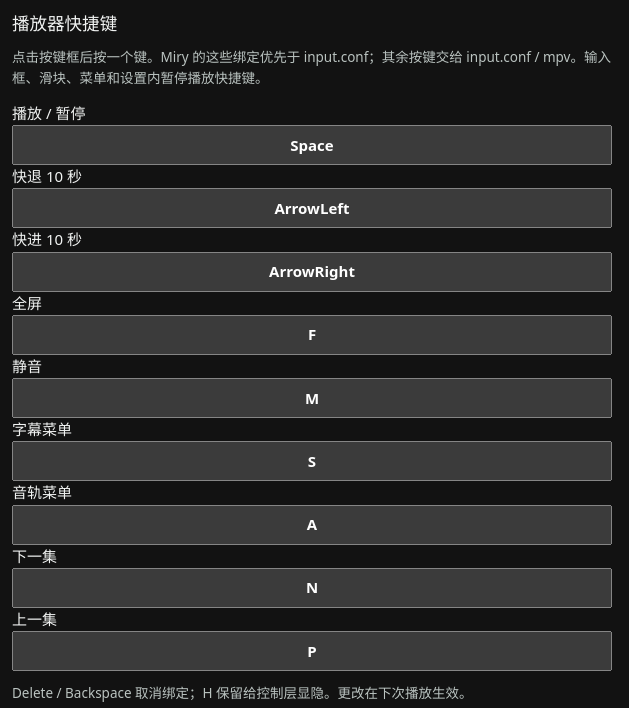
Scenario: waits for the primary key, captures canonical chords and refuses conflicts and reserved keys
Focus the field named "播放 / 暂停快捷键" at (312, 145), box [12,125,612,165]
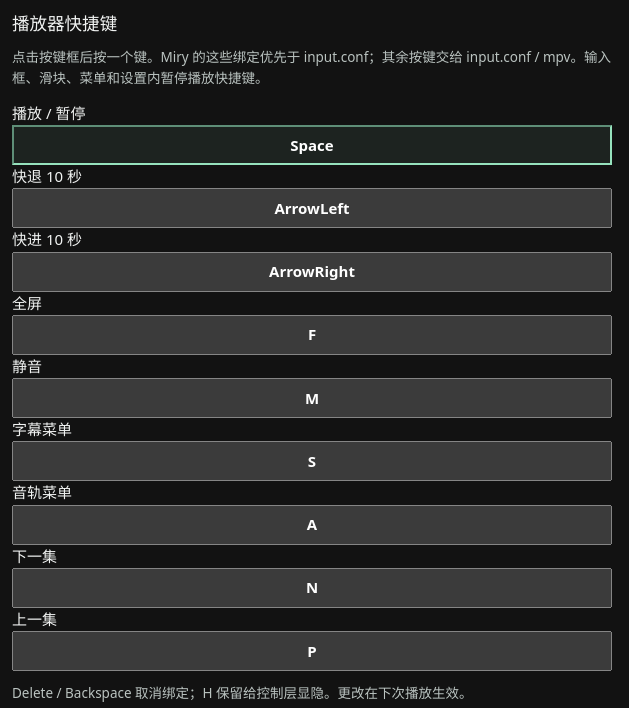
Press Control in the field named "播放 / 暂停快捷键", box [12,125,612,165]
Press S in the field named "播放 / 暂停快捷键", box [12,125,612,165]
Press f in the field named "播放 / 暂停快捷键", box [12,125,612,165]
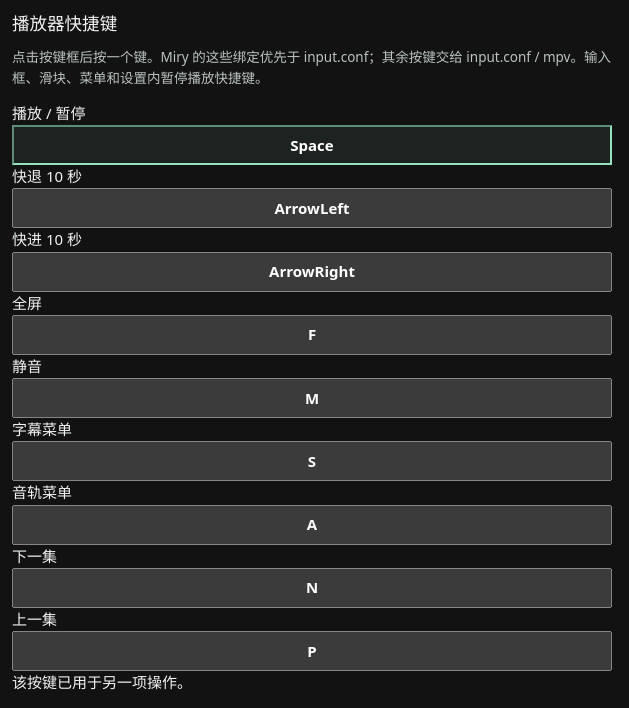
Check: the message shows "已用于", box [12,672,192,692]
Press F4 in the field named "播放 / 暂停快捷键", box [12,125,612,165]
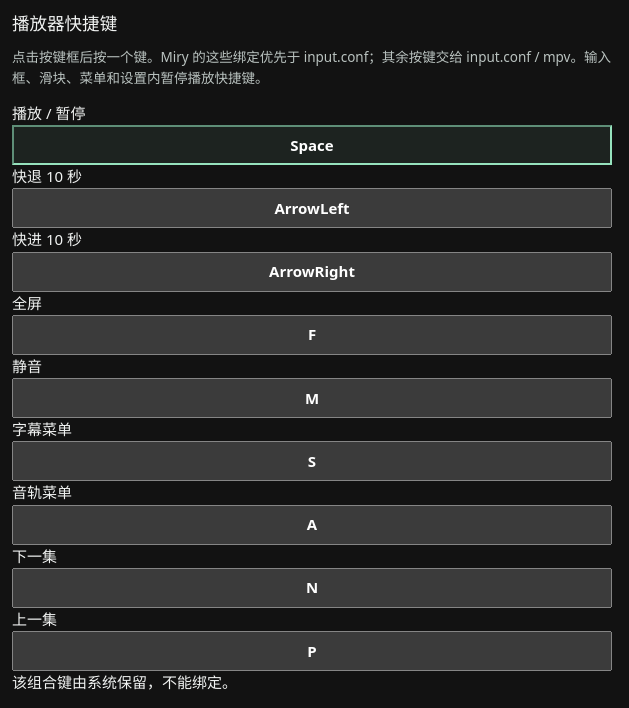
Check: the message shows "系统保留", box [12,672,237,692]
